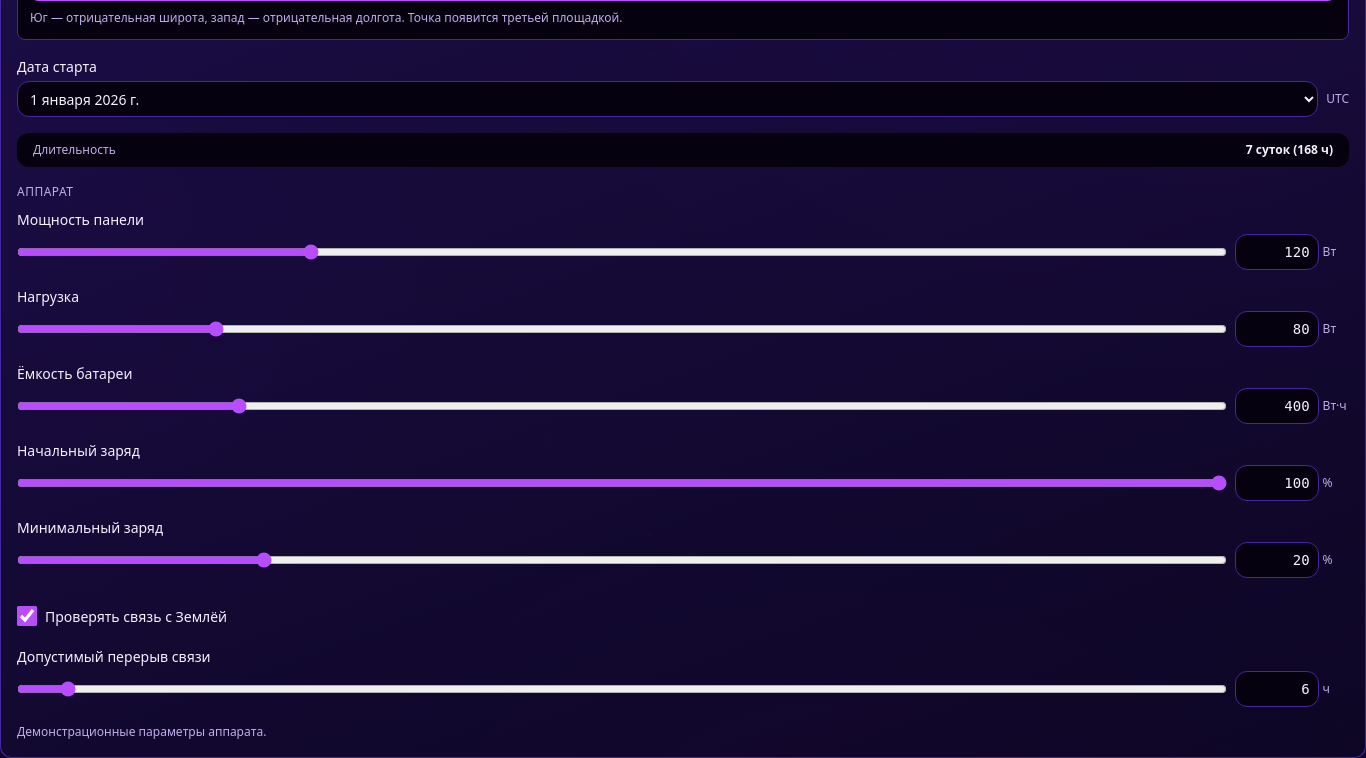
Test: contact check switch › sets maxBlackoutH to null when switched off and restores the last limit when switched on
(page scrolled)
Click the switch labelled "Проверять связь с Землёй". click: (27, 616)
box: [17,606,37,626]
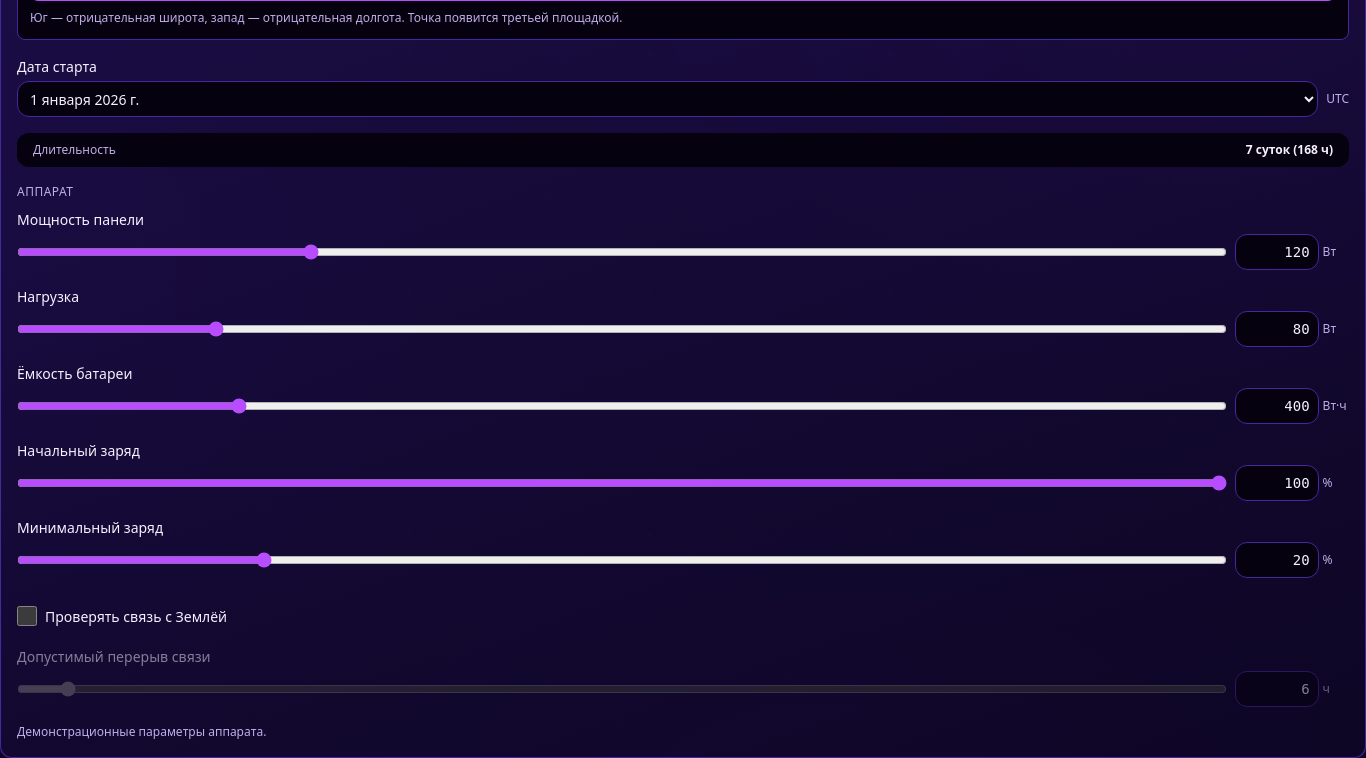
Expected: the switch labelled "Проверять связь с Землёй" is not checked
Click the switch labelled "Проверять связь с Землёй". click: (27, 616)
box: [17,606,37,626]
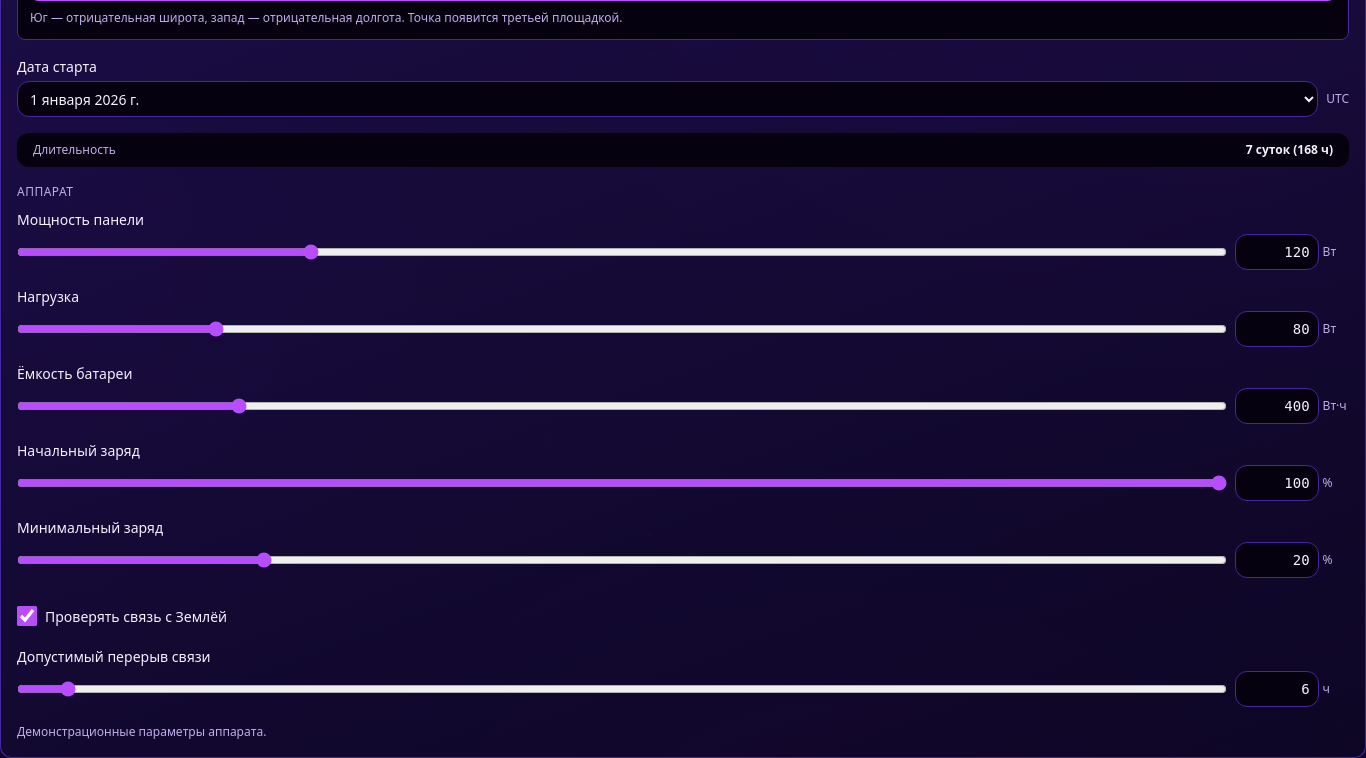
Expected: the switch labelled "Проверять связь с Землёй" is checked, [17,606,37,626]
